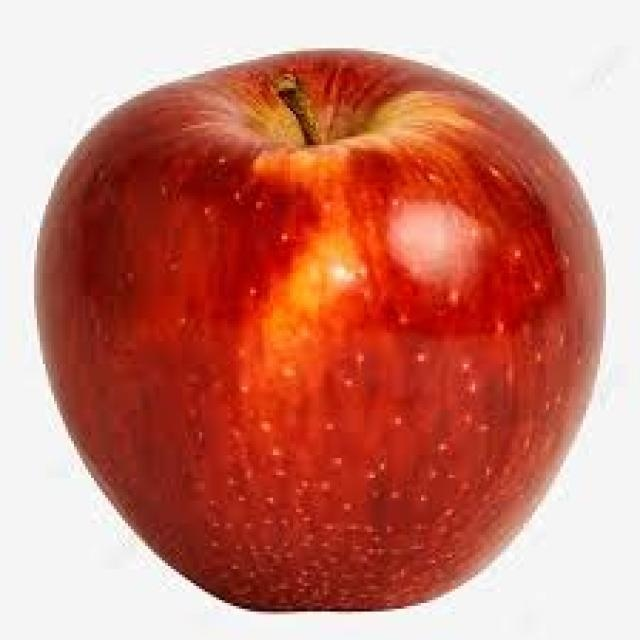agrume: (11, 43, 618, 620)
